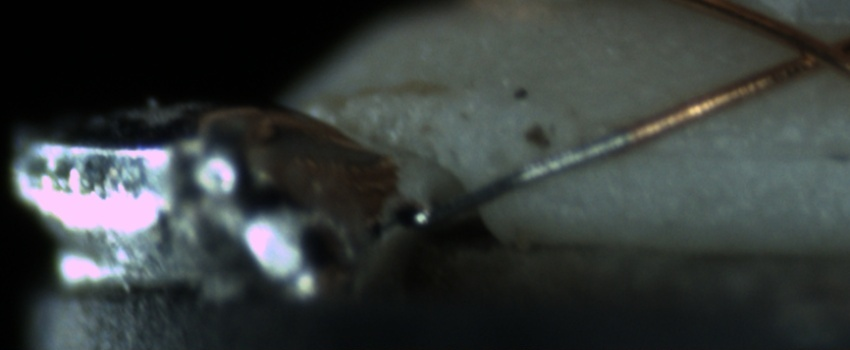CL: (768, 17, 848, 82)
DL: (630, 124, 850, 188)
TS: (427, 128, 632, 227)
